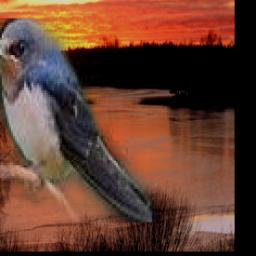Swallow: (0, 19, 158, 224)
